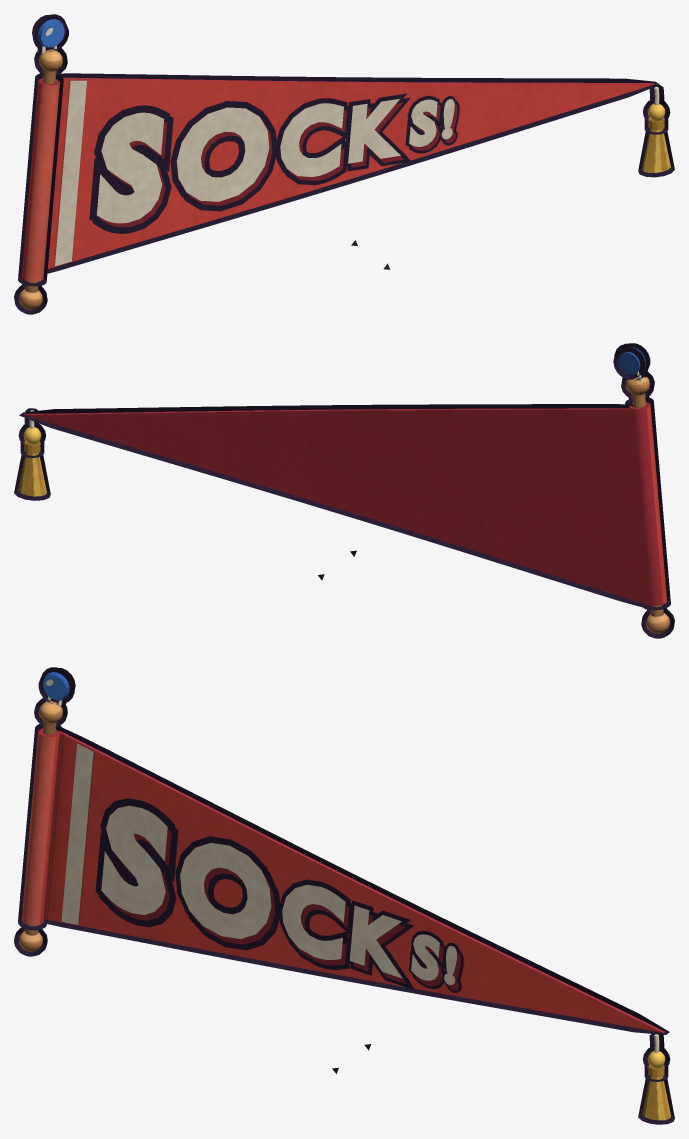
The model's file is Pennant.glb.
The picture shows the model from 3 angles, top to bottom: view 1: azimuth 30°, elevation 25°; view 2: azimuth 150°, elevation 25°; view 3: azimuth 330°, elevation 25°; orthographic projection.
Parts seen in each view (by area): view 1: Pennant, Pennant_Outline; view 2: Pennant, Pennant_Outline; view 3: Pennant, Pennant_Outline.
Boxes of the visible parts, x1,y1,x2,y2 form: Pennant: (19, 19, 670, 309); Pennant_Outline: (14, 14, 674, 314); Pennant: (18, 347, 670, 633); Pennant_Outline: (14, 343, 674, 638); Pennant: (18, 672, 670, 1120); Pennant_Outline: (14, 667, 674, 1124).
Bounding box in the file's own units: 11.75 × 5.27 × 1.1.
2 materials, 2 textured.
